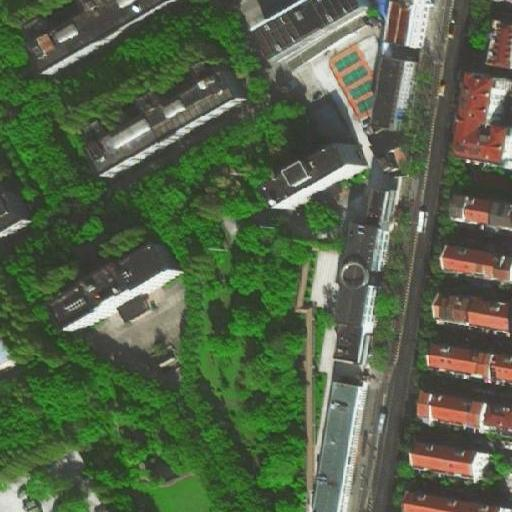building: (87, 62, 245, 177), (51, 244, 183, 339), (310, 374, 363, 510), (266, 140, 367, 211), (448, 71, 511, 170), (333, 222, 388, 332), (370, 48, 415, 134), (418, 392, 506, 432), (429, 342, 511, 383), (414, 438, 491, 478), (438, 295, 512, 333), (400, 489, 512, 512), (445, 245, 511, 282), (328, 325, 371, 377), (448, 192, 512, 226), (0, 177, 32, 241), (487, 17, 511, 66), (373, 182, 396, 222), (376, 144, 406, 174)
